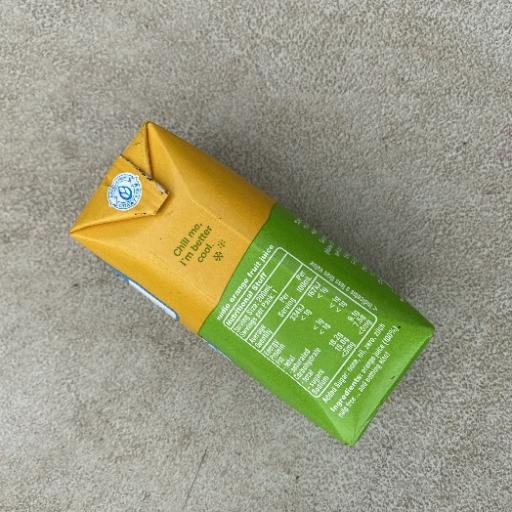Cardboard: (67, 119, 436, 448)
